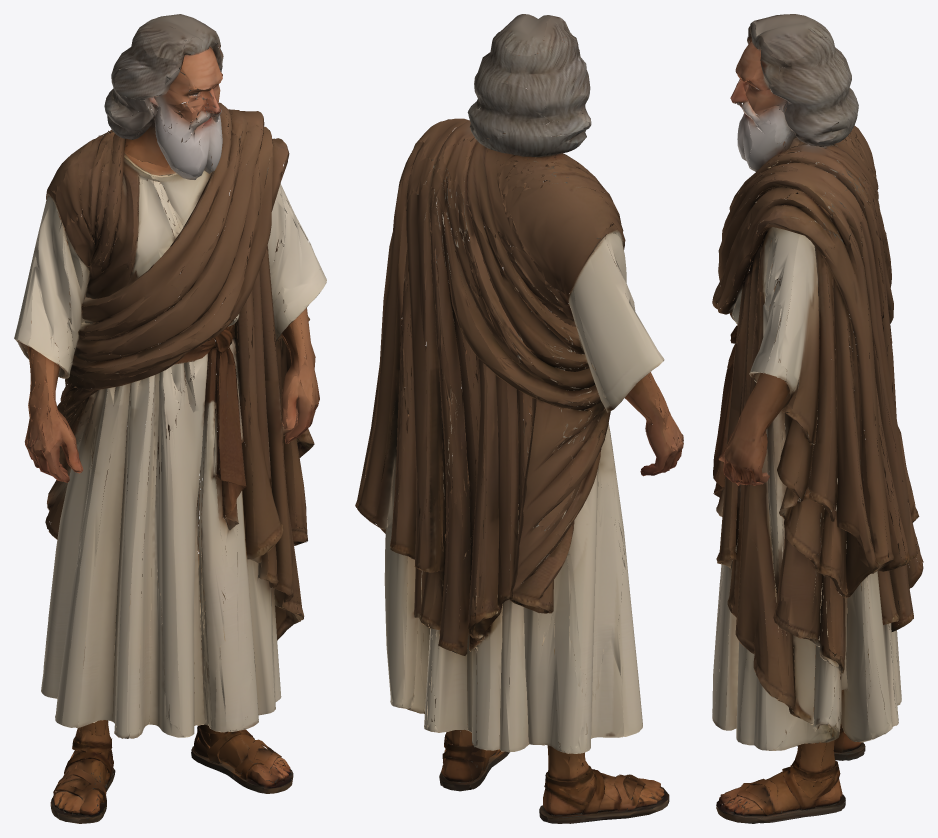
Rendered from Moses_VR_2K.glb.
3 renders of one model, left to right at view 1: azimuth 30°, elevation 25°; view 2: azimuth 150°, elevation 25°; view 3: azimuth 270°, elevation 25°, orthographic.
Visible parts, largest first — view 1: Moses; view 2: Moses; view 3: Moses.
Part boxes in pixels (x1=…): Moses: x1=14, y1=14, x2=326, y2=823; Moses: x1=355, y1=14, x2=683, y2=823; Moses: x1=712, y1=14, x2=923, y2=823.
Bounding box in the file's own units: 0.4498 × 1.13 × 0.2858.
Materials: 1 (1 with a texture image).
